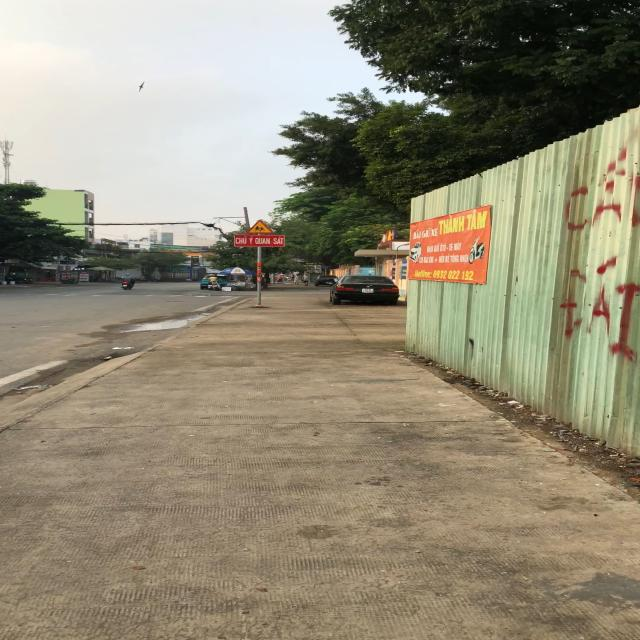Bien bao tre em: (246, 218, 274, 235)
